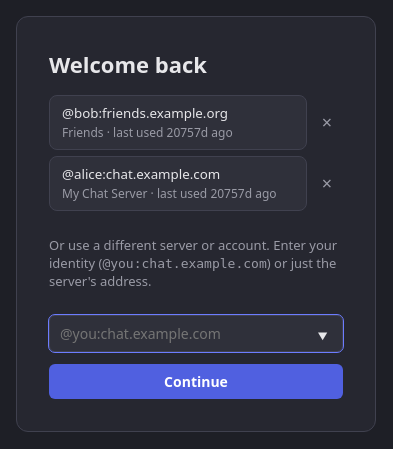
Test: AuthPage - remembered accounts › forgets one account, and the change is persisted
Step 1. Click the button named "Forget @bob:friends.example.org" → (327, 122), box x1=311 y1=95 x2=343 y2=150
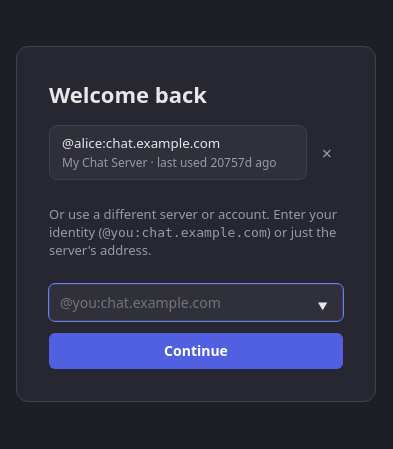
expect the text "@alice:chat.example.com" is shown: met, box x1=62 y1=134 x2=220 y2=152
expect the button "@bob:friends.example.org" is gone: met
